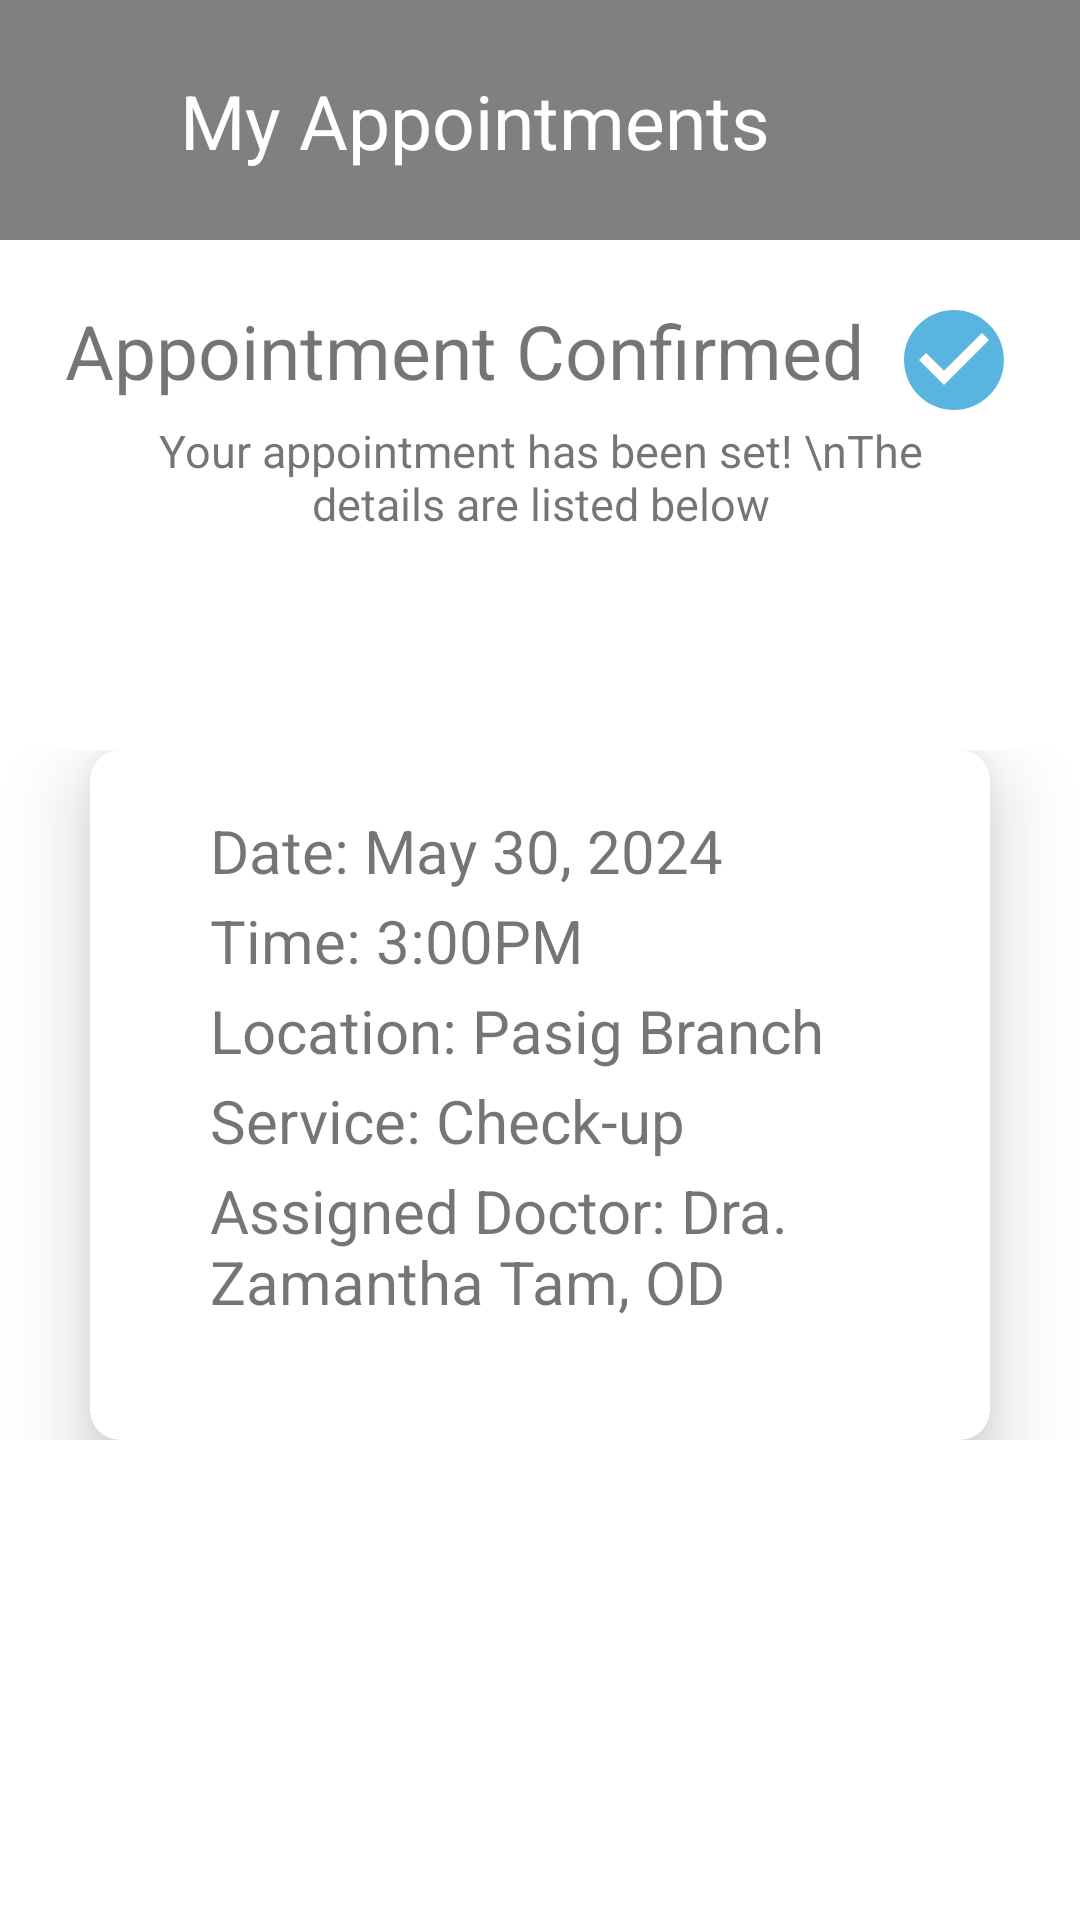

Locate icon controls on the screen. Image size 1080×1920, boxes as (x1, y1, x2, y2).
check circle: (904, 310, 1004, 410)
